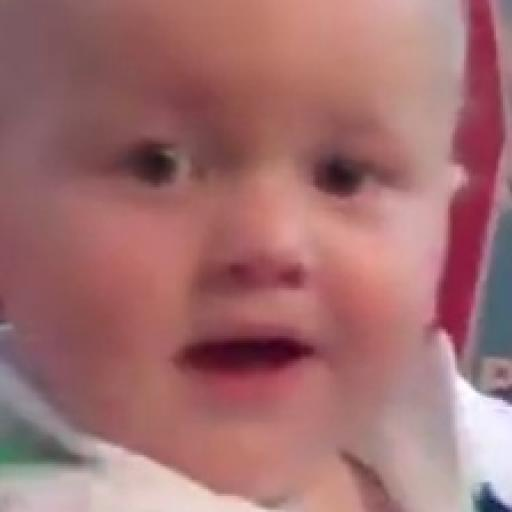Autism: (16, 22, 455, 490)
